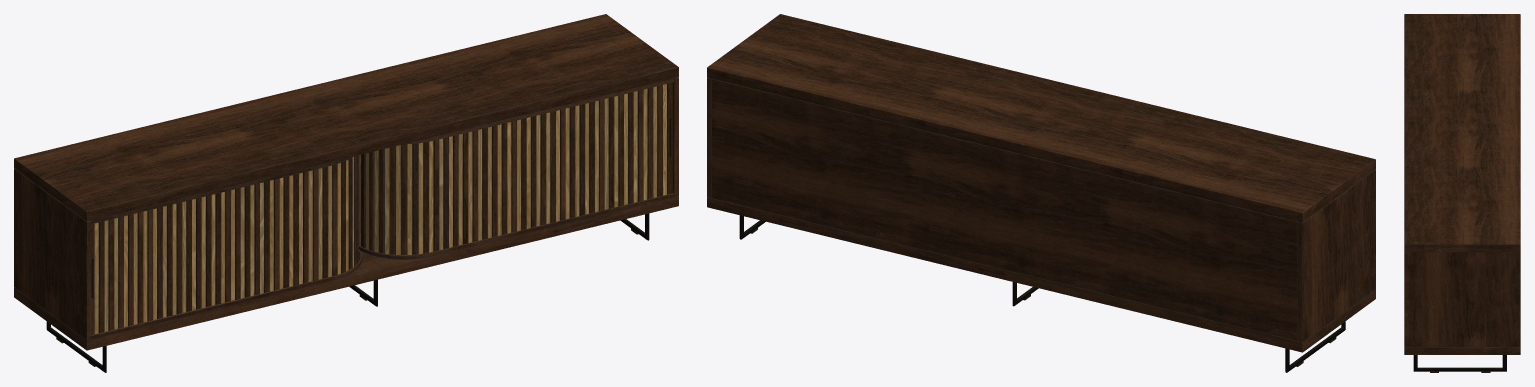
3 views of the same model, side by side, from view 1: azimuth 30°, elevation 25°; view 2: azimuth 150°, elevation 25°; view 3: azimuth 270°, elevation 25° (orthographic). The views are drawn at different scales.
Parts seen in each view (by area): view 1: modern_wooden_cabinet_body, modern_wooden_cabinet_door_r, modern_wooden_cabinet_door_l; view 2: modern_wooden_cabinet_body; view 3: modern_wooden_cabinet_body.
Part boxes in pixels (bbox=[...]): modern_wooden_cabinet_body: bbox=[14, 14, 678, 372]; modern_wooden_cabinet_door_r: bbox=[359, 82, 672, 254]; modern_wooden_cabinet_door_l: bbox=[91, 155, 358, 334]; modern_wooden_cabinet_body: bbox=[707, 14, 1375, 372]; modern_wooden_cabinet_body: bbox=[1404, 14, 1520, 372].
Size of the model in its own units: 2.44 by 0.6801 by 0.52.
Materials: 1 (1 with a texture image).
